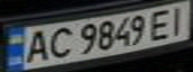4: (112, 15, 136, 47)
8: (97, 18, 118, 52)
9: (75, 20, 100, 55), (127, 12, 151, 46)
A: (18, 27, 54, 64)
C: (42, 25, 75, 60)
E: (145, 7, 175, 42)
I: (163, 2, 193, 36)
